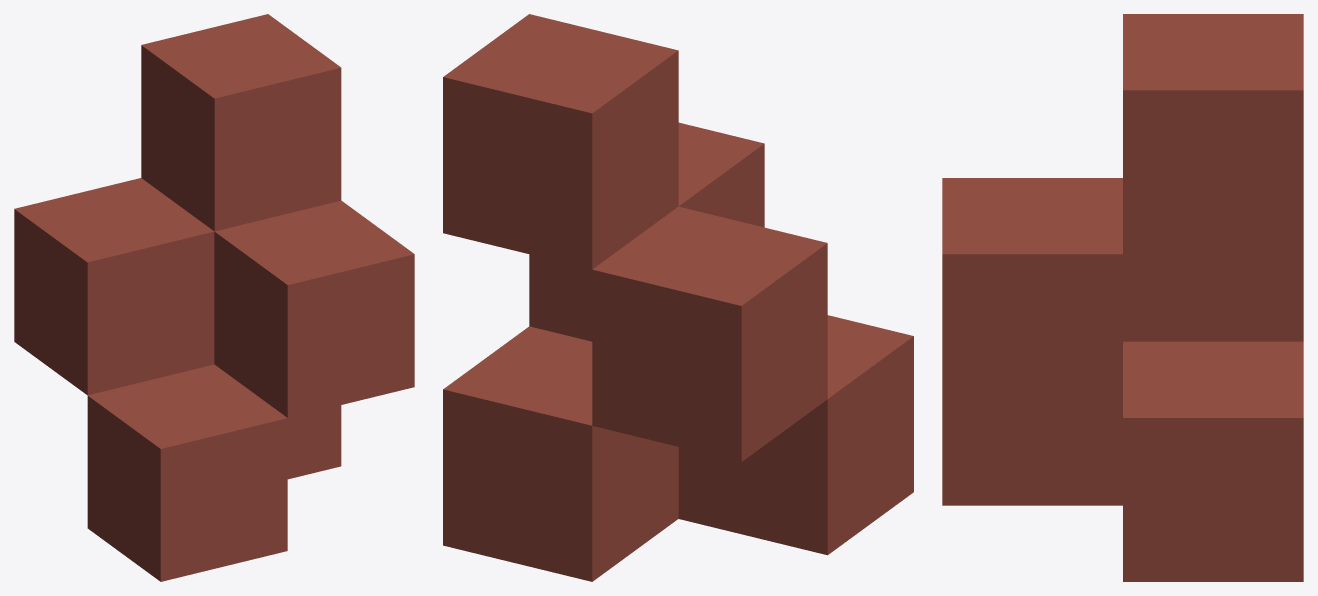
Rendered from NB_TR_F_Braid_Test_00.fbx.
The picture shows the model from 3 angles, left to right: view 1: azimuth 30°, elevation 25°; view 2: azimuth 150°, elevation 25°; view 3: azimuth 270°, elevation 25°; orthographic projection. The views are drawn at different scales.
Visible parts, largest first — view 1: Braid_Test_00; view 2: Braid_Test_00; view 3: Braid_Test_00.
Part boxes in pixels (<box>): Braid_Test_00: <box>14,14,414,581</box>; Braid_Test_00: <box>443,14,913,581</box>; Braid_Test_00: <box>942,14,1303,581</box>.
Bounding box in the file's own units: 2 × 3 × 2.
1 material, 1 textured.
